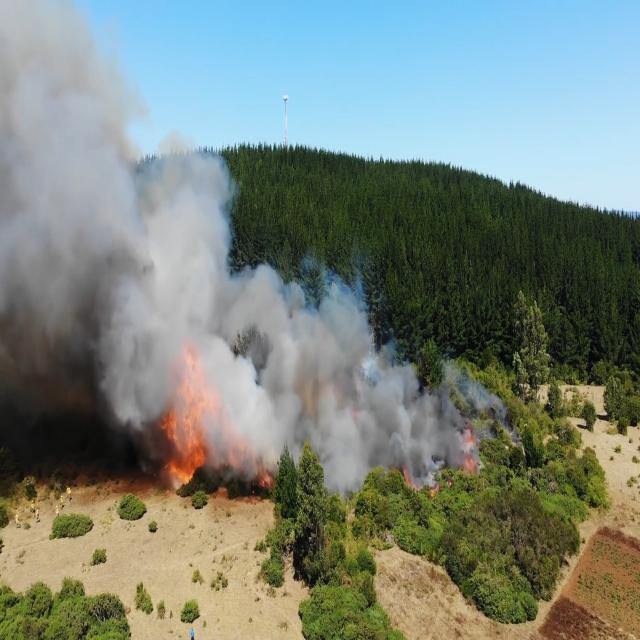Fire: (164, 343, 278, 504), (398, 468, 458, 502), (462, 426, 486, 478)
Smoke: (0, 0, 163, 504), (242, 352, 462, 465), (165, 124, 242, 343), (242, 258, 378, 354), (204, 342, 242, 474), (463, 370, 508, 444), (320, 463, 376, 522)
